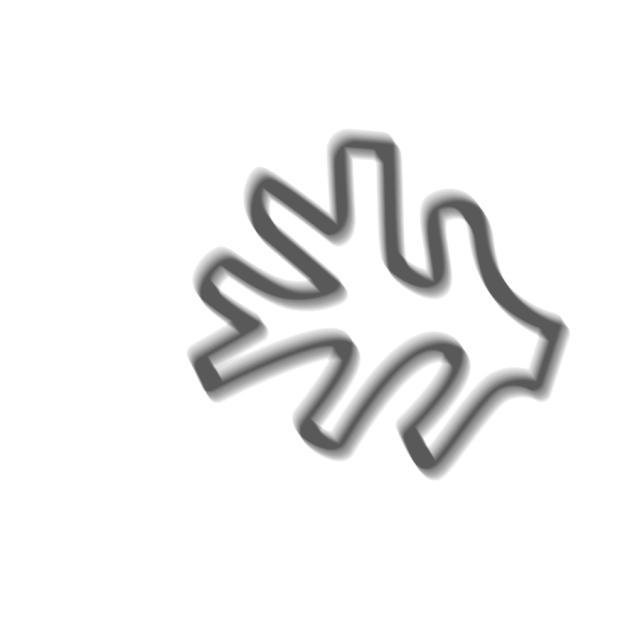coral: (177, 124, 580, 490)
